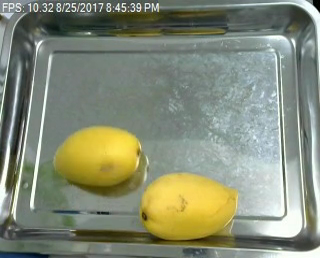Mango: (137, 170, 239, 242), (48, 122, 146, 187)
